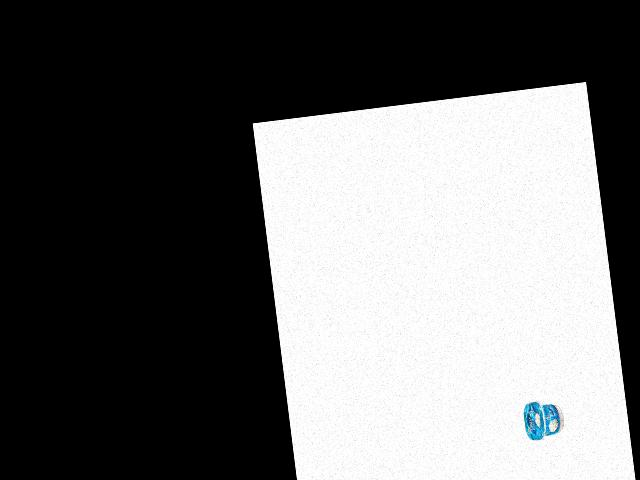cotage: (520, 396, 565, 444)
